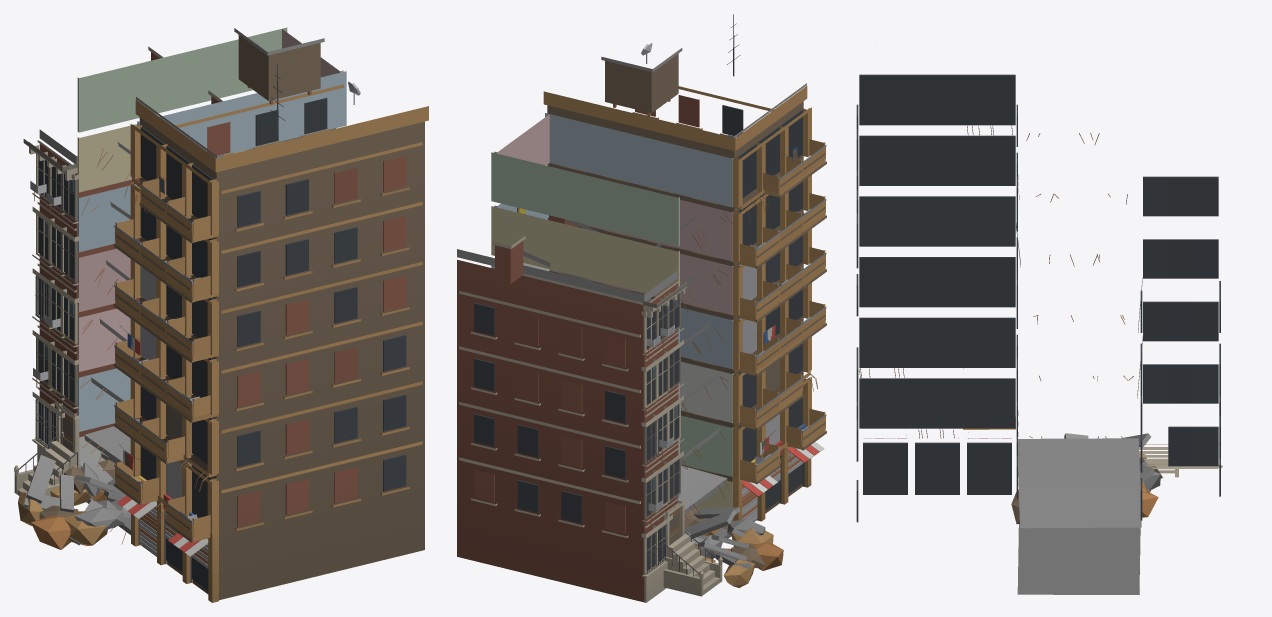
The model's file is split_building.glb.
3 renders of one model, left to right at view 1: azimuth 30°, elevation 25°; view 2: azimuth 150°, elevation 25°; view 3: azimuth 270°, elevation 25°, orthographic. The views are drawn at different scales.
Visible parts, largest first — view 1: block_r_41, split, brick_r_55; view 2: brick_r_55, split, block_r_41; view 3: block_r_41, split, brick_r_55.
Boxes of the visible parts, left/top/right/bottom form: block_r_41: left=114, top=28, right=428, bottom=602; split: left=18, top=27, right=346, bottom=549; brick_r_55: left=14, top=46, right=222, bottom=496; brick_r_55: left=457, top=215, right=722, bottom=602; split: left=491, top=113, right=783, bottom=587; block_r_41: left=543, top=14, right=826, bottom=521; block_r_41: left=856, top=74, right=1017, bottom=522; split: left=1011, top=133, right=1162, bottom=594; brick_r_55: left=1139, top=176, right=1222, bottom=520.
Size of the model in its own units: 16.68 by 28.86 by 19.86.
